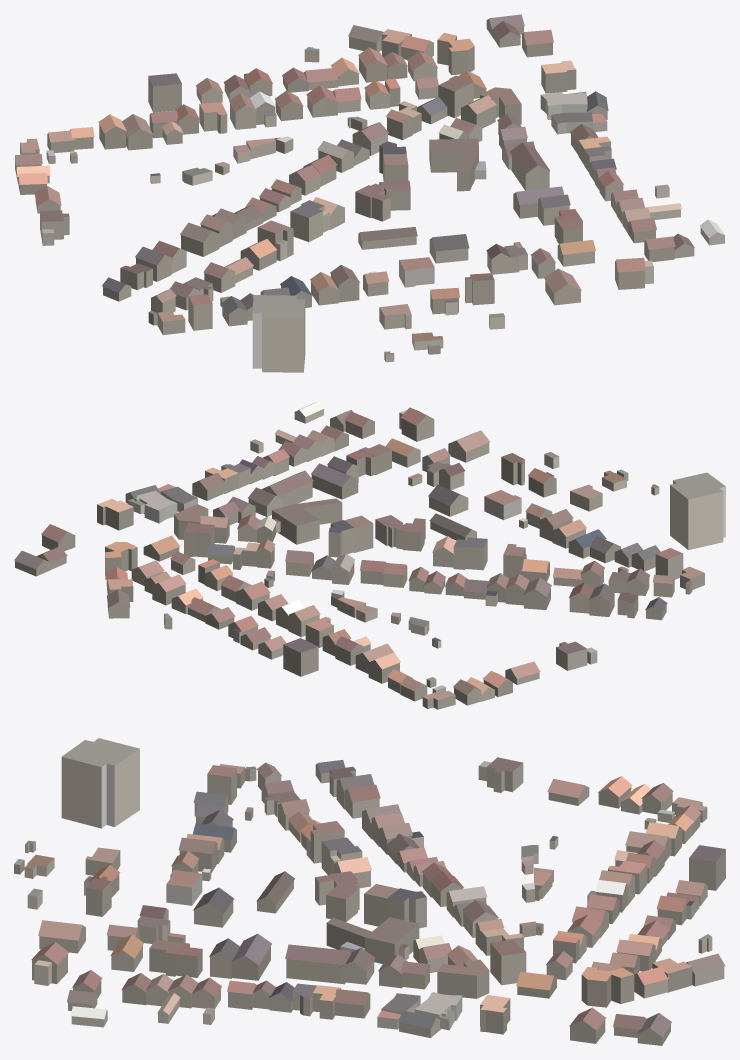
3 views of the same model, one above another, from view 1: azimuth 30°, elevation 25°; view 2: azimuth 150°, elevation 25°; view 3: azimuth 270°, elevation 25° (orthographic). The views are drawn at different scales.
Parts seen in each view (by area): view 1: tuile; view 2: tuile; view 3: tuile.
Part boxes in pixels (left/top/right/bottom): tuile: left=15, top=14, right=725, bottom=372; tuile: left=14, top=401, right=725, bottom=709; tuile: left=14, top=738, right=725, bottom=1045.
Size of the model in its own units: 261 by 24.56 by 257.
